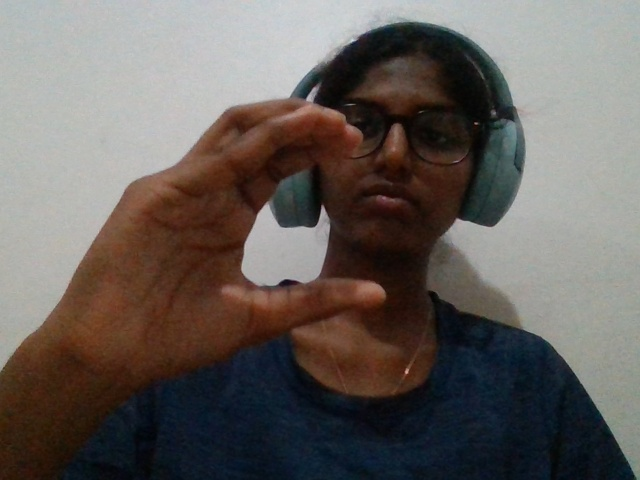C: (24, 77, 426, 428)
